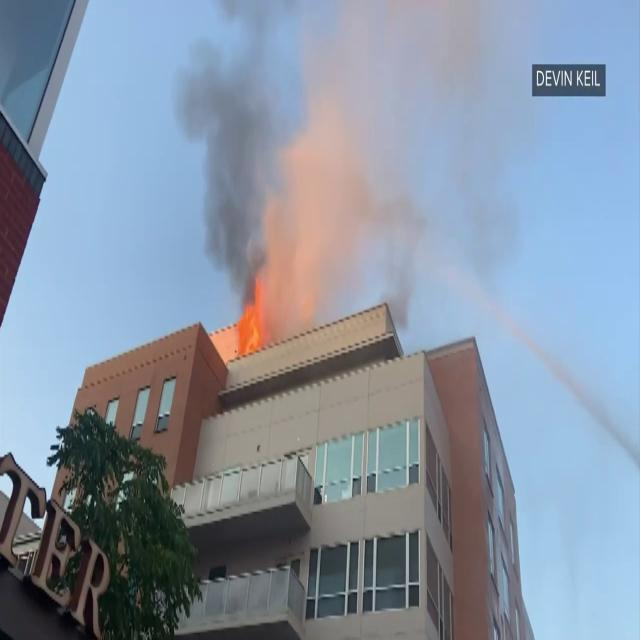Fire: (235, 298, 265, 354)
Smoke: (171, 0, 519, 334)
